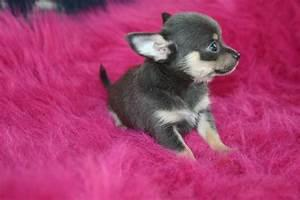dog: (98, 10, 240, 161)
